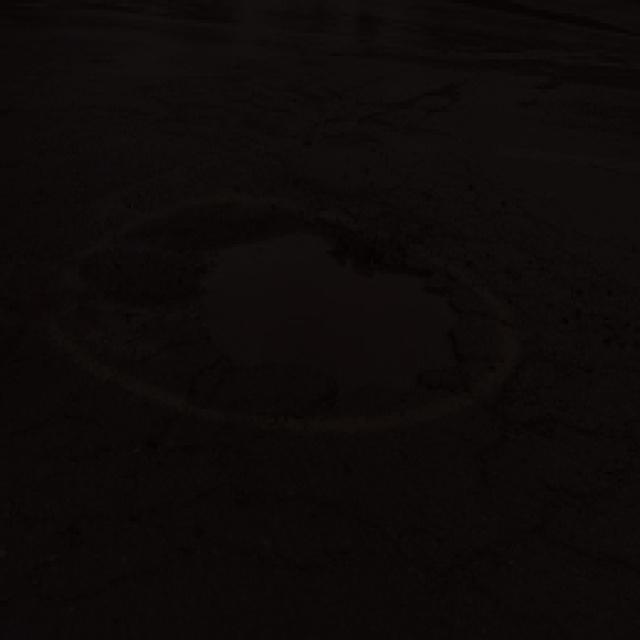Pothole: (174, 213, 467, 398)
